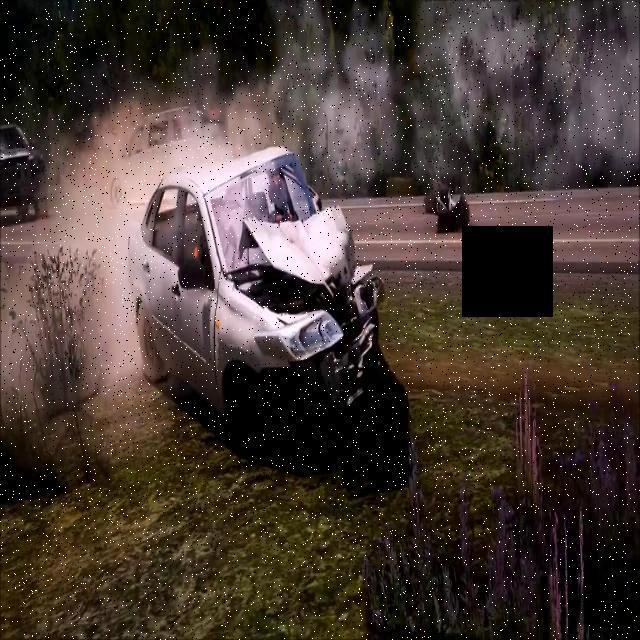vehicle: (103, 136, 400, 442)
